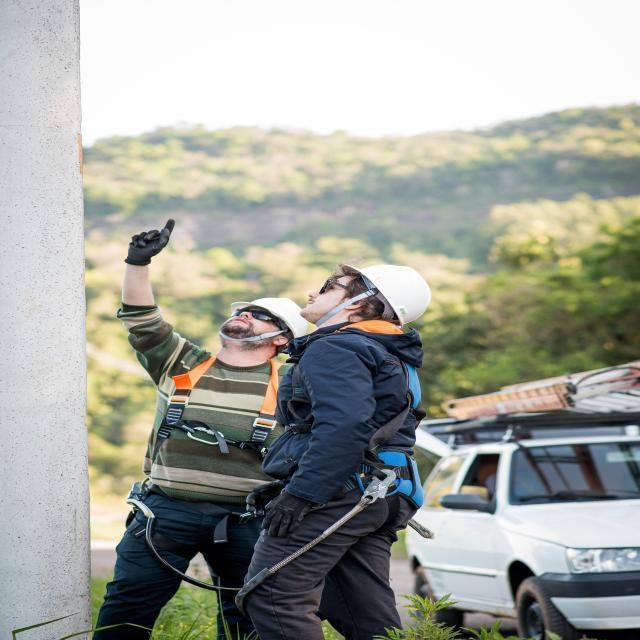Arnes_seguridad: (128, 351, 297, 545)
